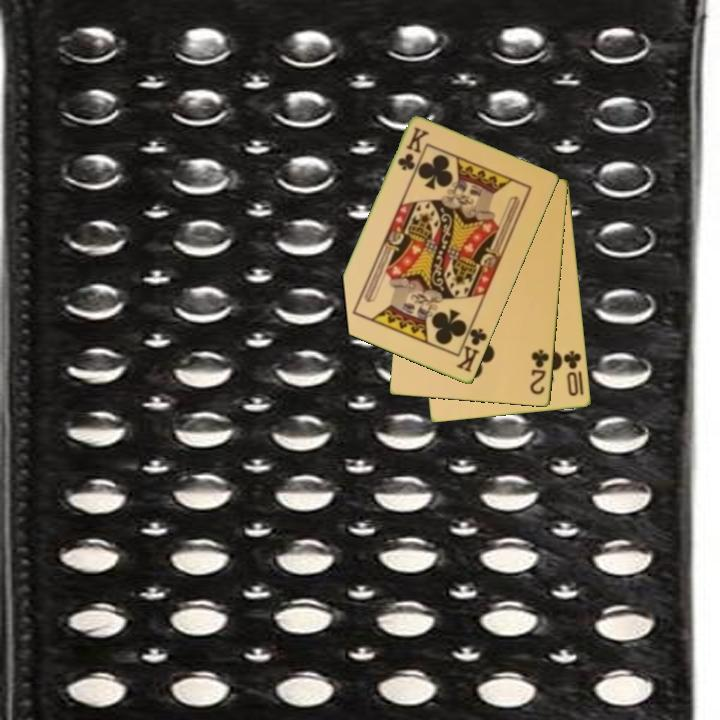10c: (560, 347, 584, 399)
2c: (527, 346, 552, 398)
Kc: (453, 319, 490, 375), (394, 124, 432, 174)
